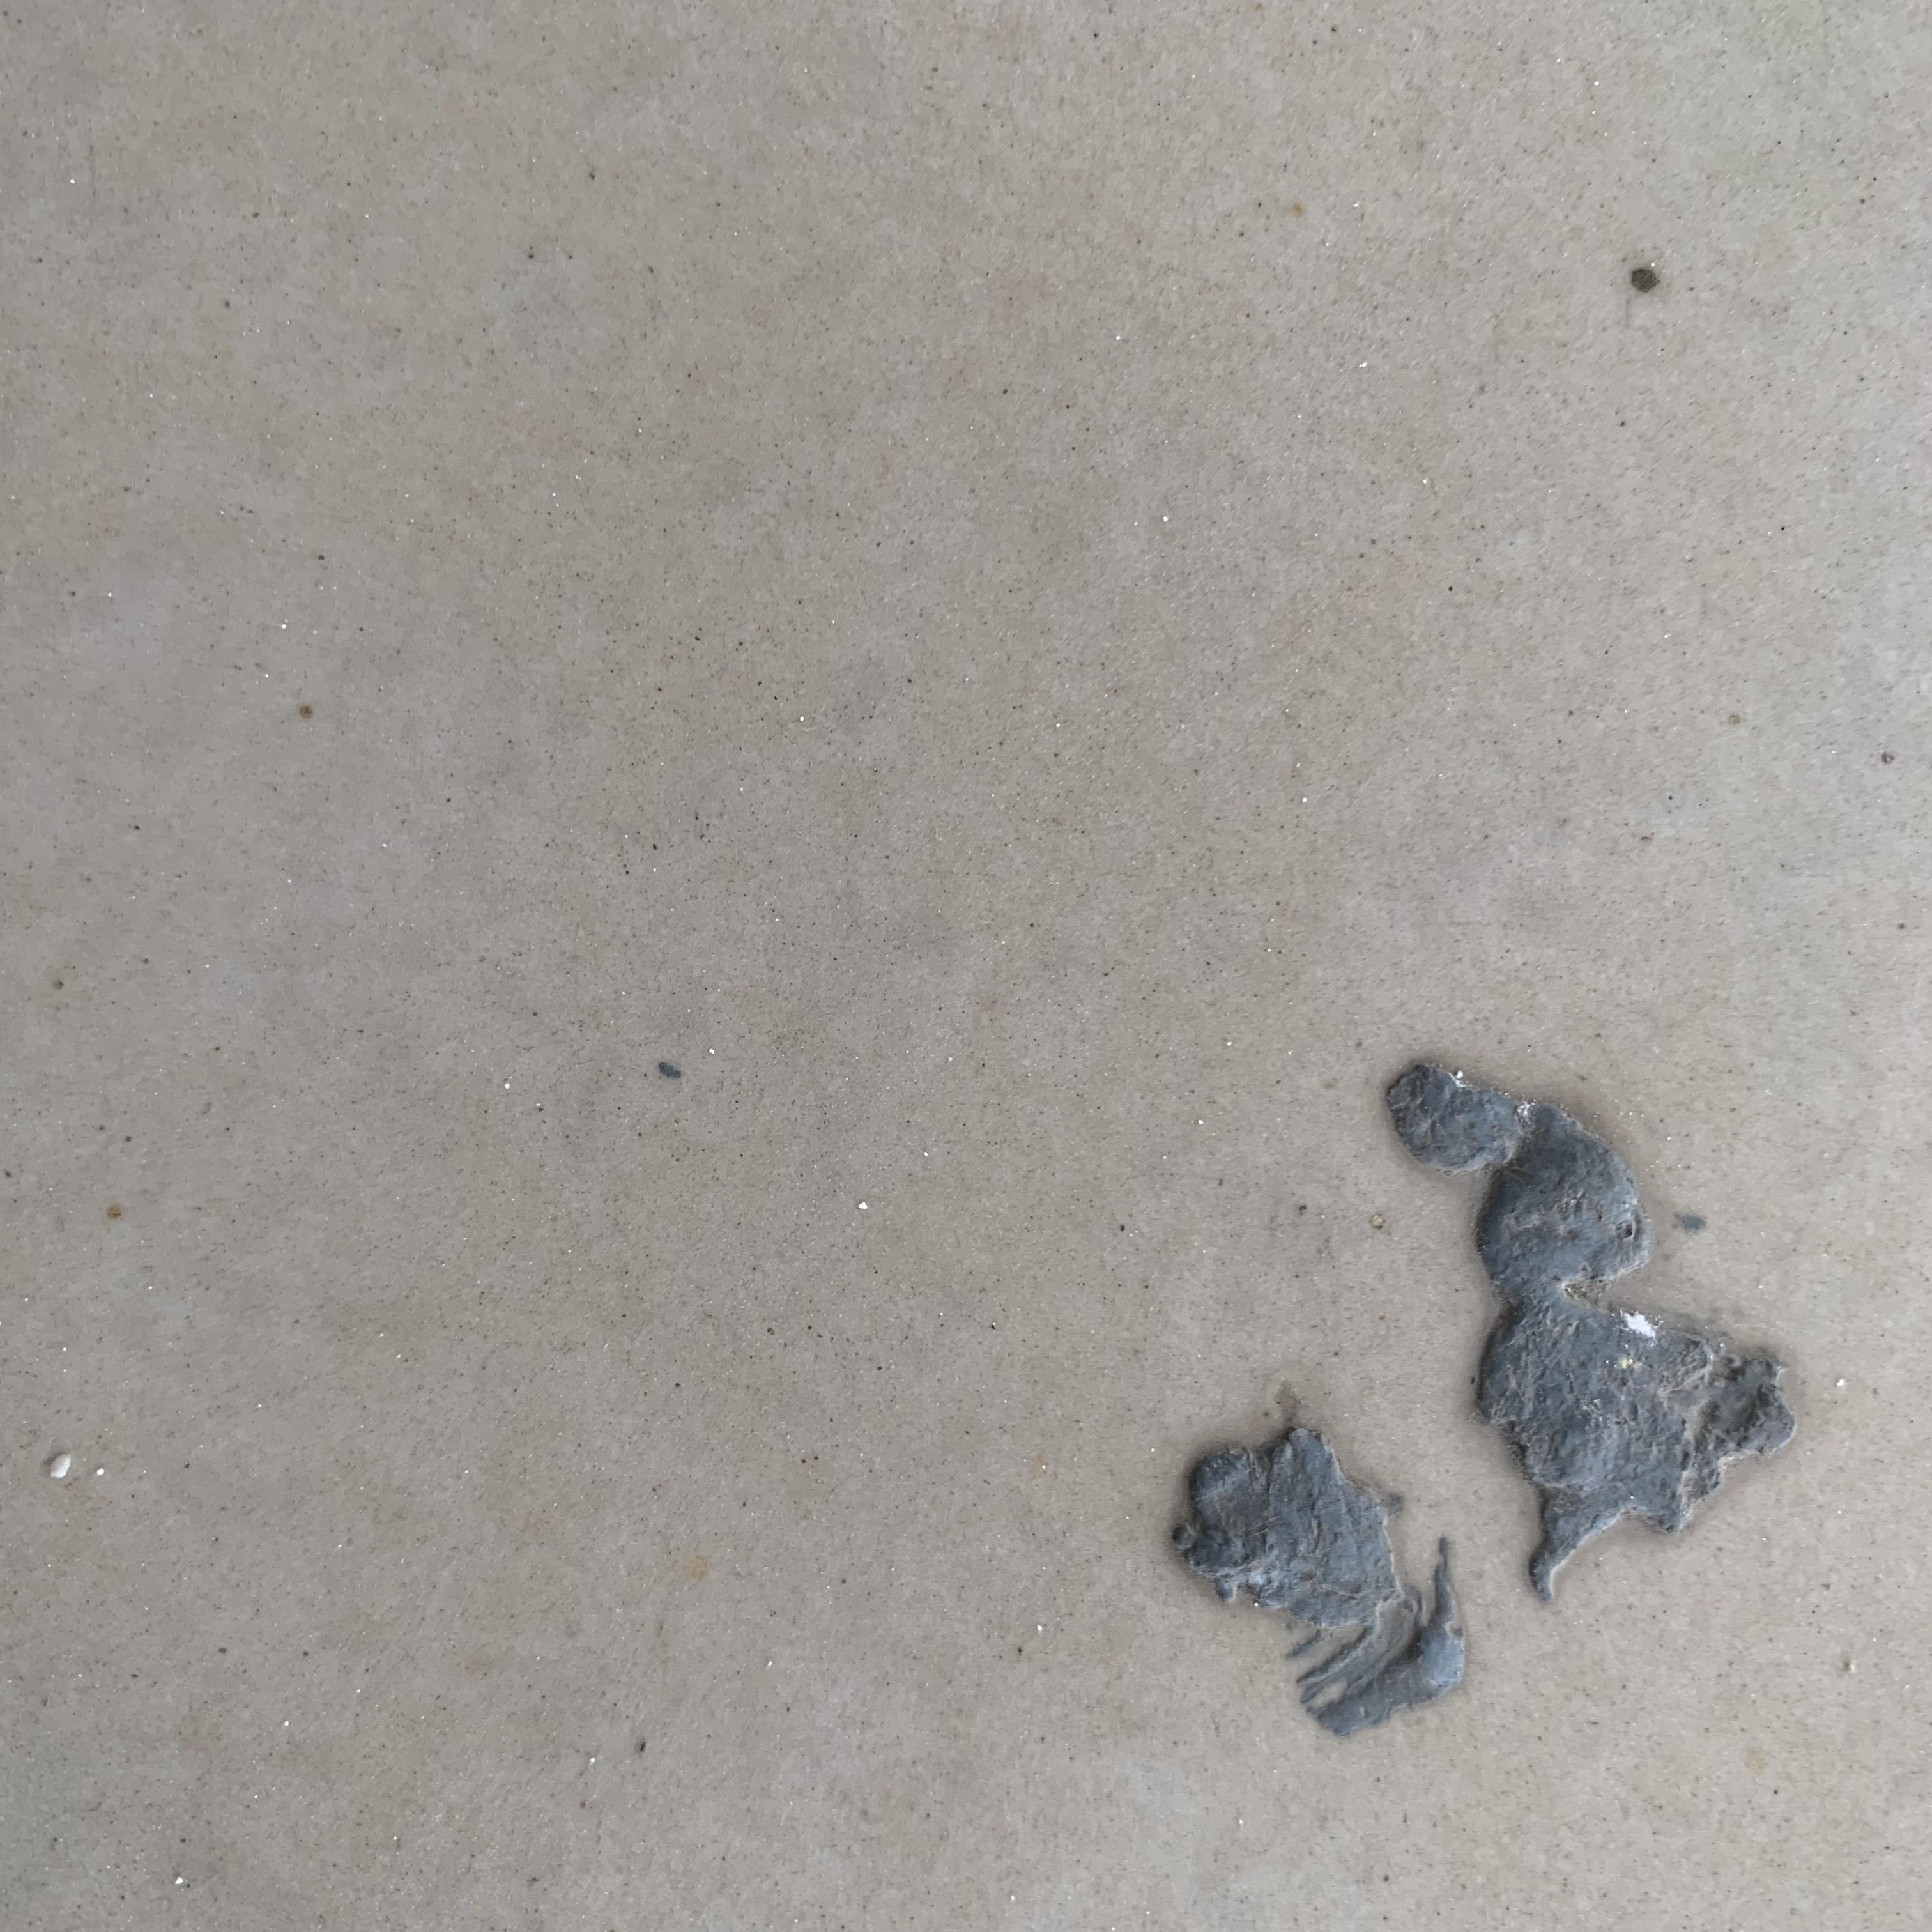grey spot: (1385, 1056, 1803, 1605), (1166, 1431, 1470, 1737)
